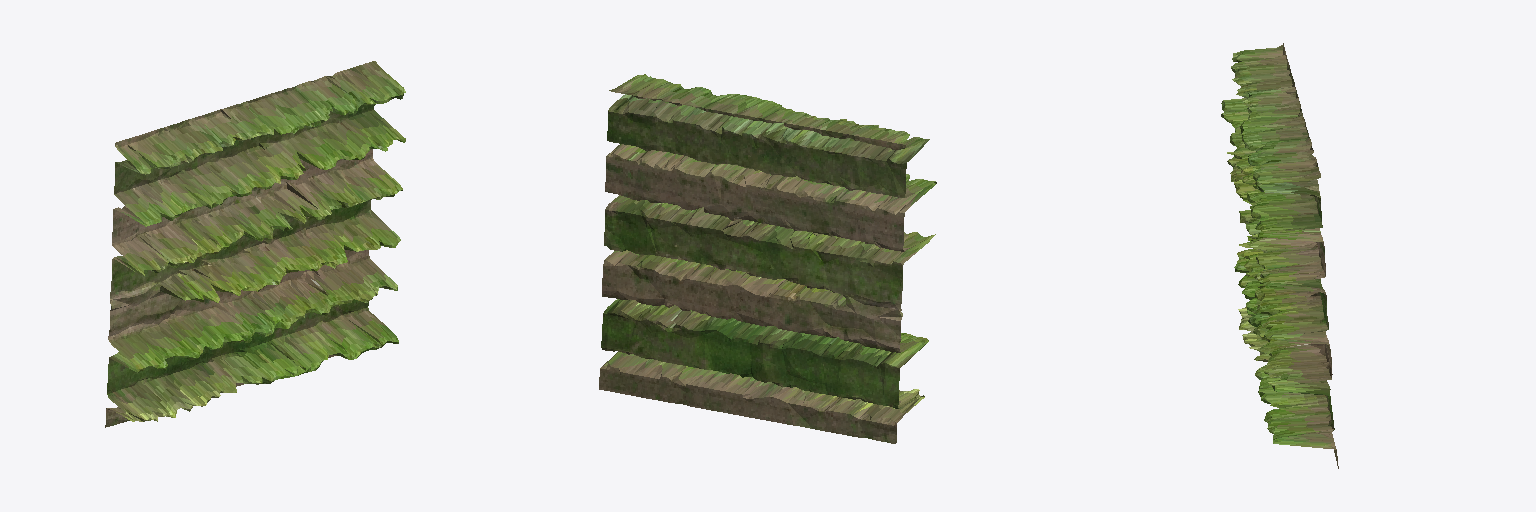
3 views of the same model, side by side, from view 1: azimuth 30°, elevation 25°; view 2: azimuth 150°, elevation 25°; view 3: azimuth 270°, elevation 25° (orthographic).
Parts seen in each view (by area): view 1: grp1; view 2: grp1; view 3: grp1.
Part boxes in pixels (x1,y1,x2,y2): grp1: (105, 61, 405, 427); grp1: (599, 74, 936, 443); grp1: (1221, 43, 1338, 468).
Size of the model in its own units: 10 by 10 by 3.66.
1 materials, 1 textured.